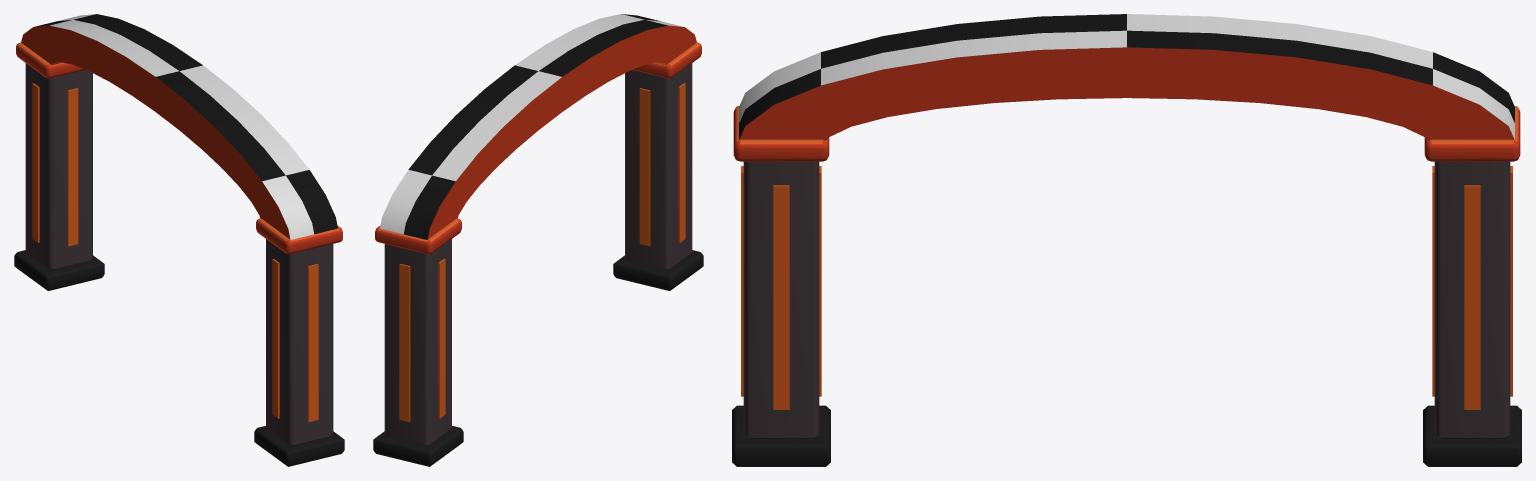
File: candy-exit.glb
3 views of the same model, side by side, from view 1: azimuth 30°, elevation 25°; view 2: azimuth 150°, elevation 25°; view 3: azimuth 270°, elevation 25° (orthographic). The views are drawn at different scales.
Parts seen in each view (by area): view 1: candy-exit; view 2: candy-exit; view 3: candy-exit.
Part boxes in pixels (<box>): candy-exit: <box>14,14,344,466</box>; candy-exit: <box>373,14,703,466</box>; candy-exit: <box>732,14,1521,466</box>.
Size of the model in its own units: 0.6 by 2.8 by 4.8.
